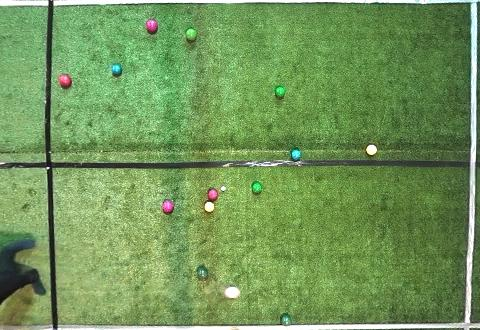blue: (290, 148, 302, 160), (111, 63, 122, 75)
green: (186, 28, 198, 41), (251, 181, 263, 193), (197, 267, 208, 278), (281, 314, 291, 326), (275, 86, 285, 97)
red: (224, 286, 241, 298), (146, 19, 158, 33), (59, 74, 71, 87), (162, 200, 174, 213), (207, 188, 218, 200)
vline: (1, 1, 59, 329), (461, 1, 479, 329)
white: (221, 186, 226, 191)
yellow: (365, 144, 378, 156), (204, 201, 215, 212)
